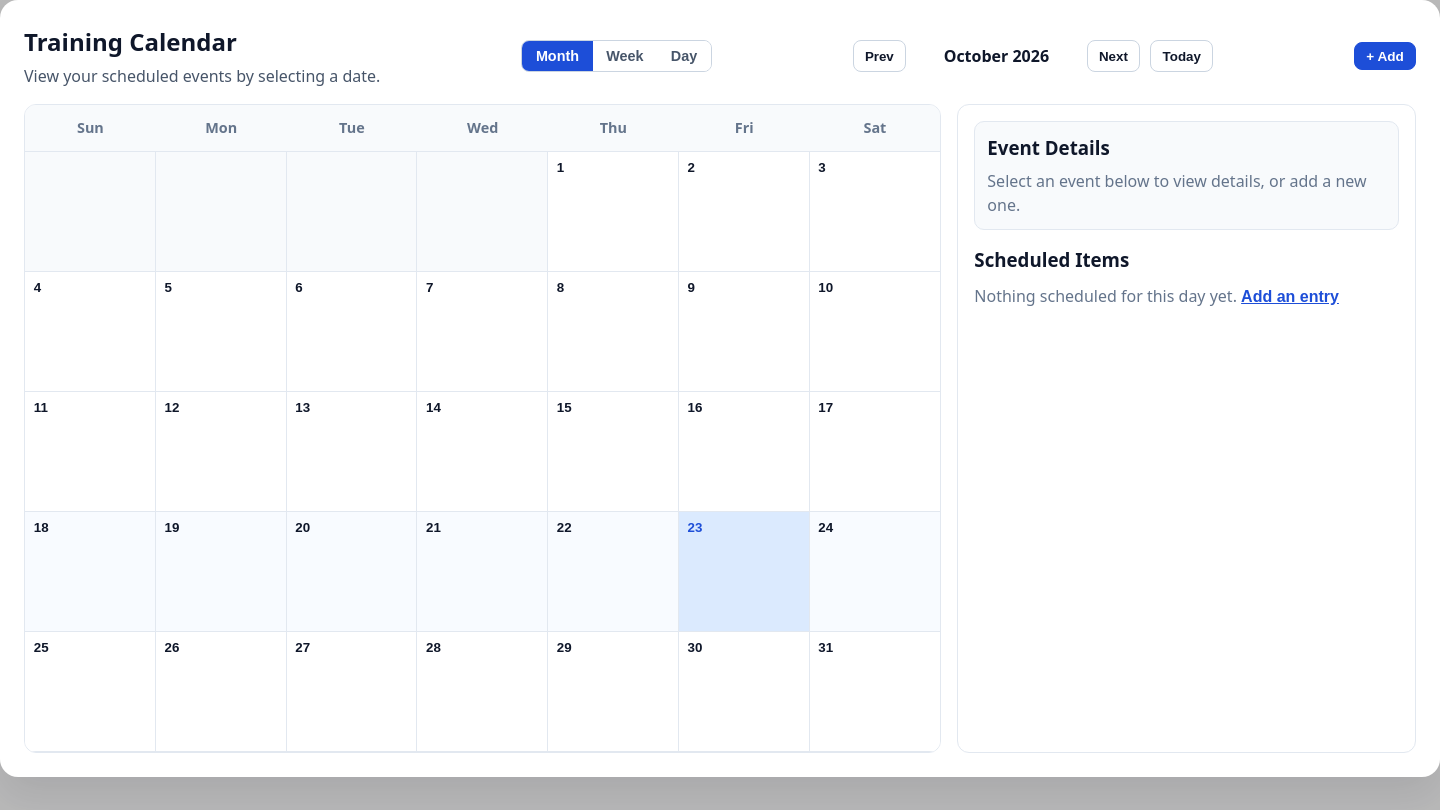
Test case: Calendar Component › toggles between month and week views
This screenshot has width=1440, height=810.
Expected: the element named "Monthly calendar" is shown, [24,104,941,753]
Click the button "Week".
click(625, 56)  # box [593,41,657,71]
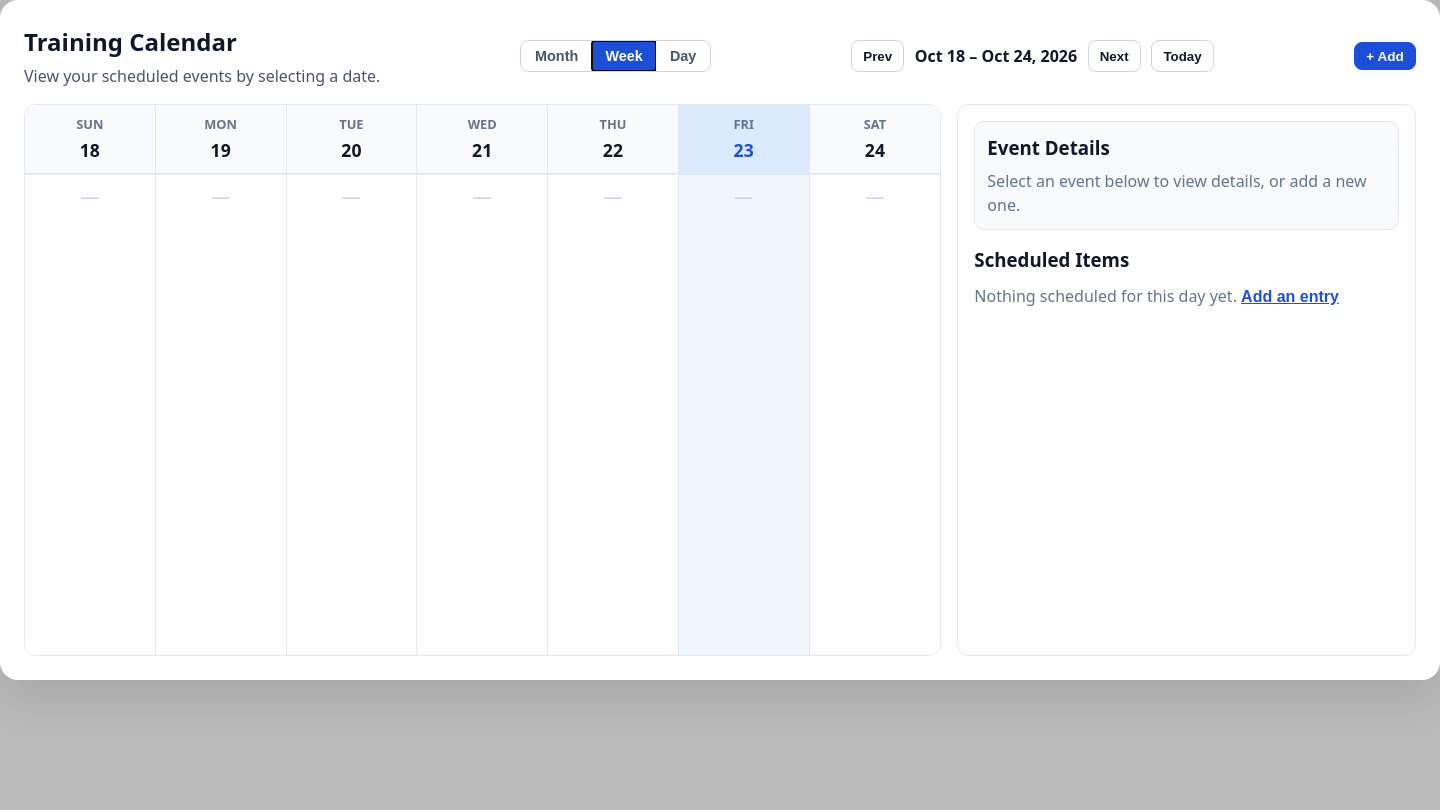
Now the element named "Weekly calendar" is shown, box [24,104,941,656]
Click the button "Month".
click(557, 56)  # box [522,41,592,71]
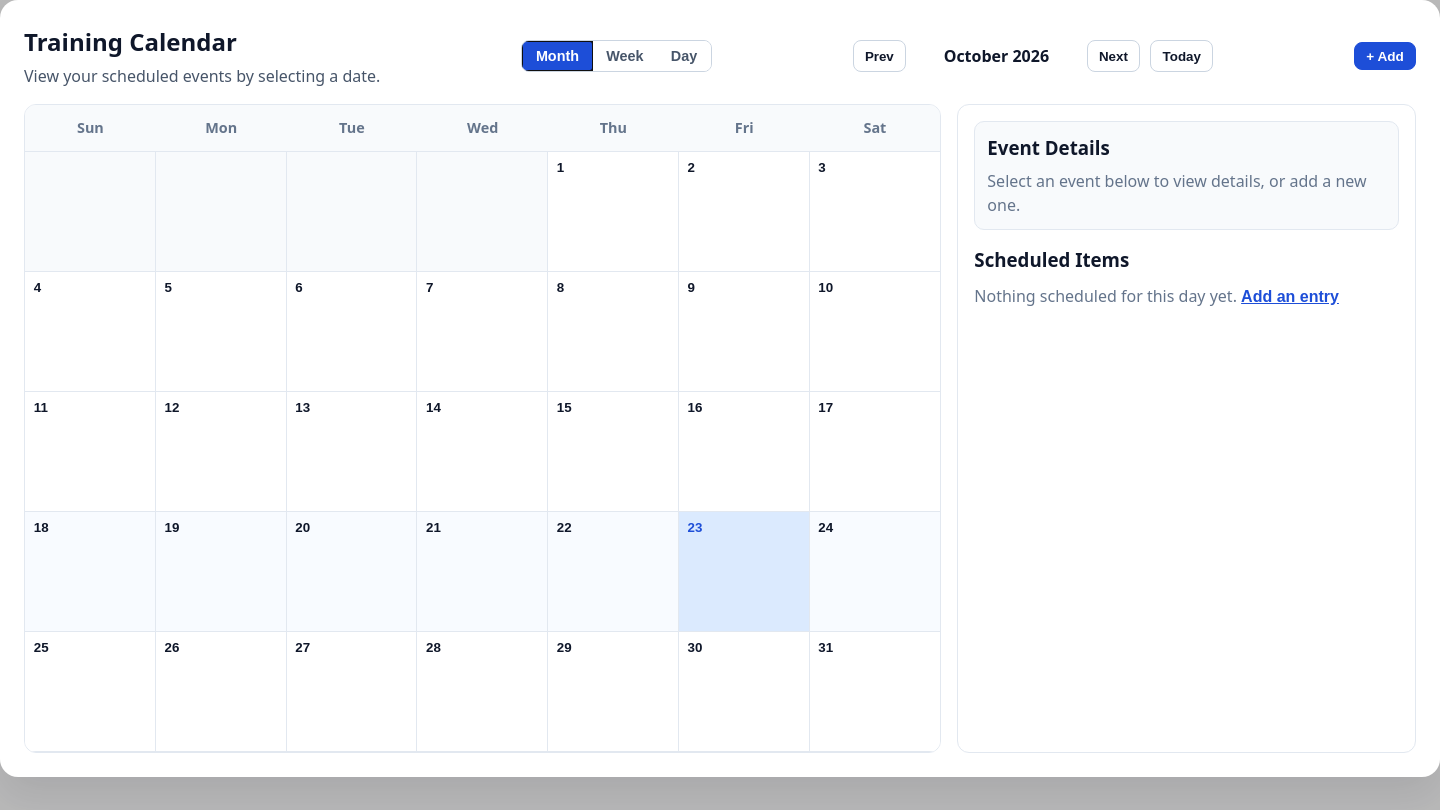
Now the element named "Monthly calendar" is shown, box [24,104,941,753]
